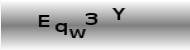3: (84, 12, 98, 26)
E: (37, 14, 50, 28)
Y: (111, 6, 126, 21)
q: (54, 22, 68, 36)
w: (68, 27, 87, 39)
